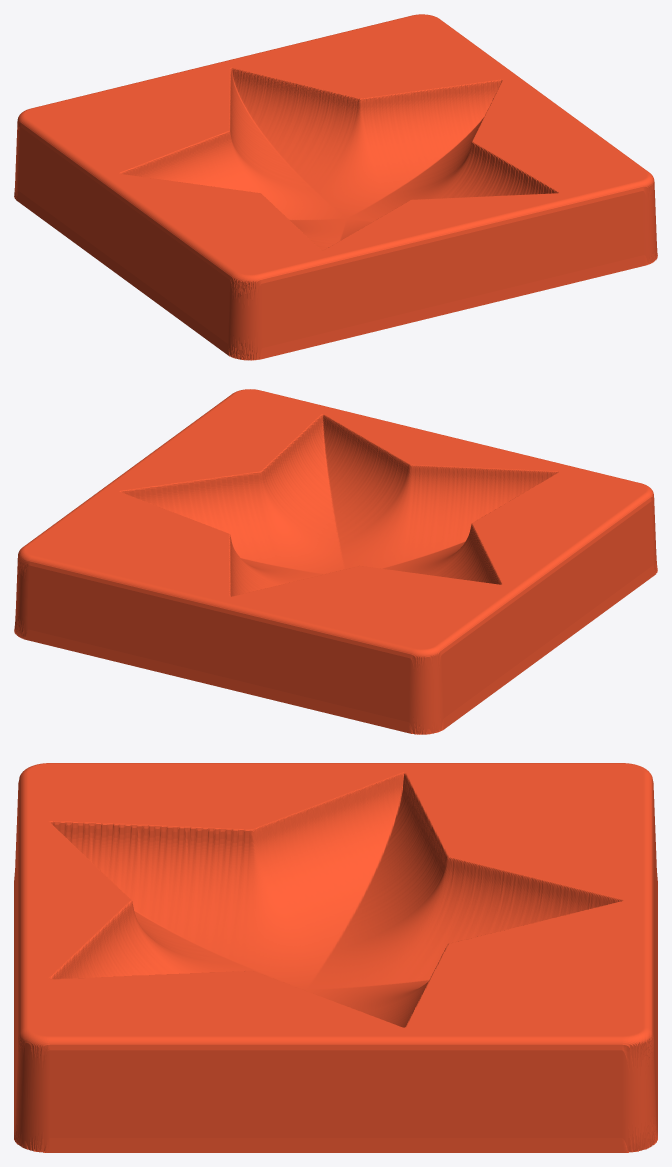
File: mold.glb
The picture shows the model from 3 angles, top to bottom: view 1: azimuth 30°, elevation 25°; view 2: azimuth 150°, elevation 25°; view 3: azimuth 270°, elevation 25°; orthographic projection. The views are drawn at different scales.
Visible parts, largest first — view 1: geometry_0; view 2: geometry_0; view 3: geometry_0.
Part boxes in pixels (x1,y1,x2,y2): geometry_0: (14,14,657,360); geometry_0: (14,389,657,734); geometry_0: (14,763,657,1152).
Size of the model in its own units: 0.1709 by 0.031 by 0.1635.
